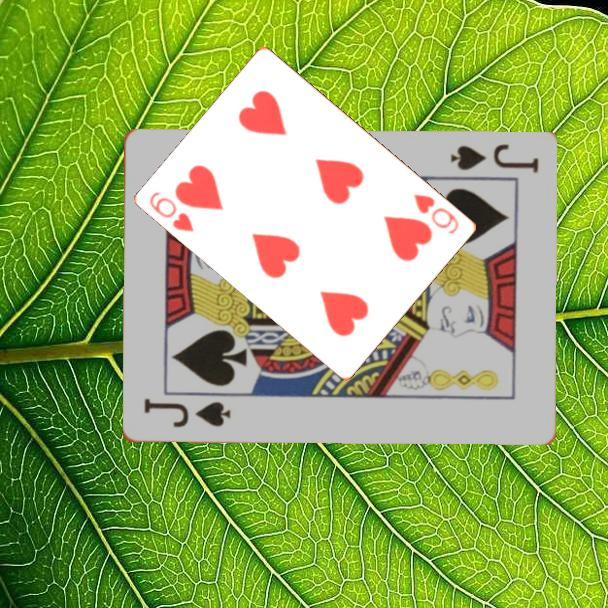h06: (410, 190, 462, 237), (146, 188, 198, 235)
s11: (447, 141, 541, 176), (140, 396, 233, 431)
